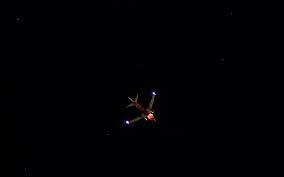Plane: (111, 81, 173, 135)
